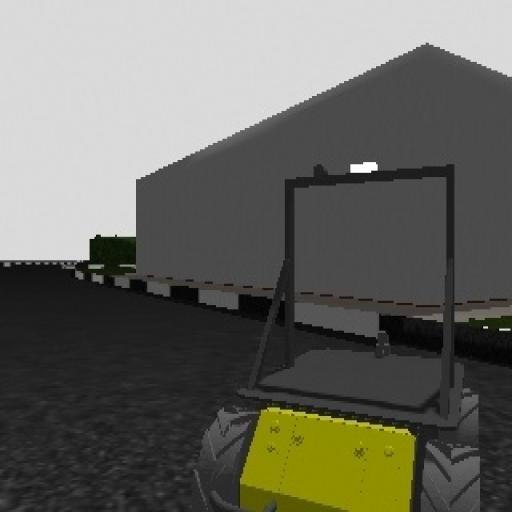huskya200: (186, 151, 488, 512)
